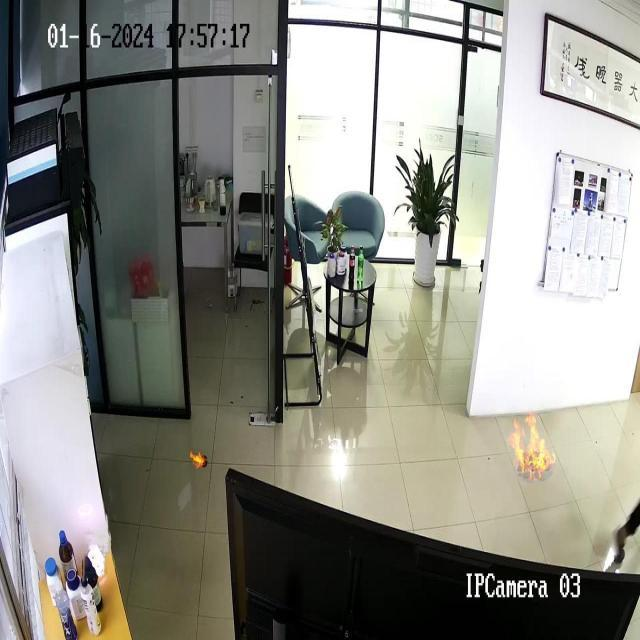smoke: (510, 410, 559, 480), (188, 444, 205, 468)
